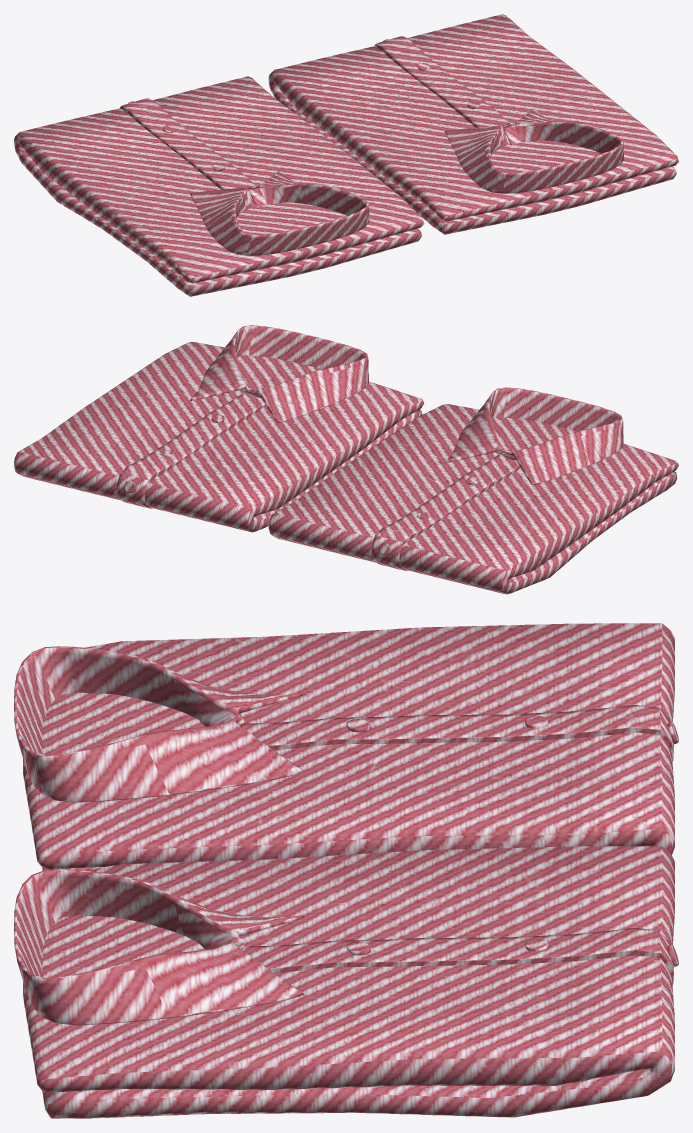
The model's file is chenshan18.fbx.
3 views of the same model, one above another, from view 1: azimuth 30°, elevation 25°; view 2: azimuth 150°, elevation 25°; view 3: azimuth 270°, elevation 25° (orthographic). The views are drawn at different scales.
Parts seen in each view (by area): view 1: chenshan18; view 2: chenshan18; view 3: chenshan18.
Part boxes in pixels (x1,y1,x2,y2): chenshan18: (14,14,678,296); chenshan18: (14,325,678,594); chenshan18: (14,623,678,1118).
Bounding box in the file's own units: 51.25 × 5.51 × 33.24.
